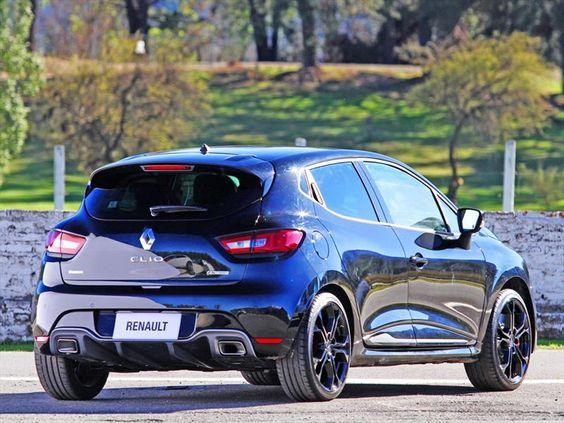Renault: (134, 219, 162, 258)
